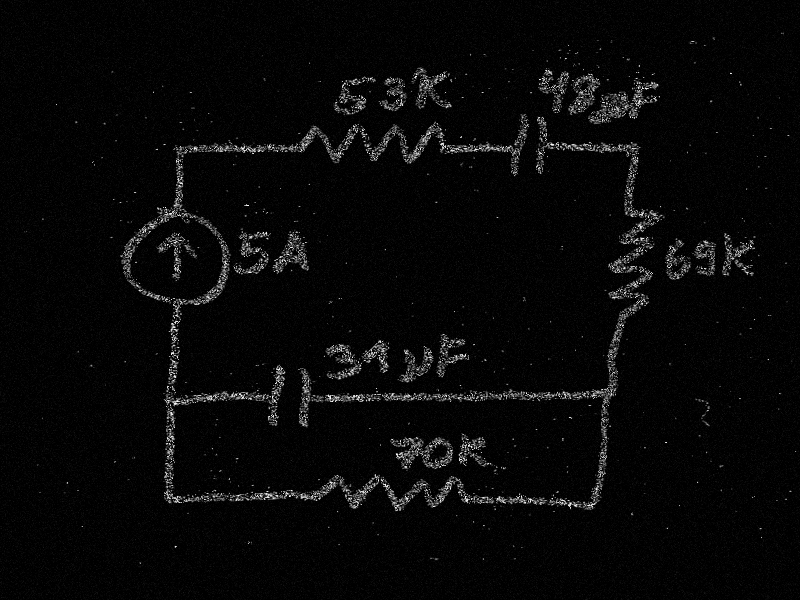0: (421, 437, 455, 469)
1: (360, 336, 394, 376)
3: (319, 342, 364, 381), (378, 75, 408, 113)
4: (534, 66, 570, 115)
5: (232, 228, 273, 276), (332, 76, 378, 116)
6: (661, 238, 694, 282)
7: (386, 434, 426, 473)
8: (567, 75, 601, 114)
9: (691, 239, 720, 278)
A: (271, 230, 311, 274)
F: (435, 332, 471, 380), (630, 78, 661, 120)
k: (409, 63, 455, 112), (718, 229, 758, 281), (457, 430, 491, 469)
u: (397, 345, 435, 382), (598, 92, 629, 124)
